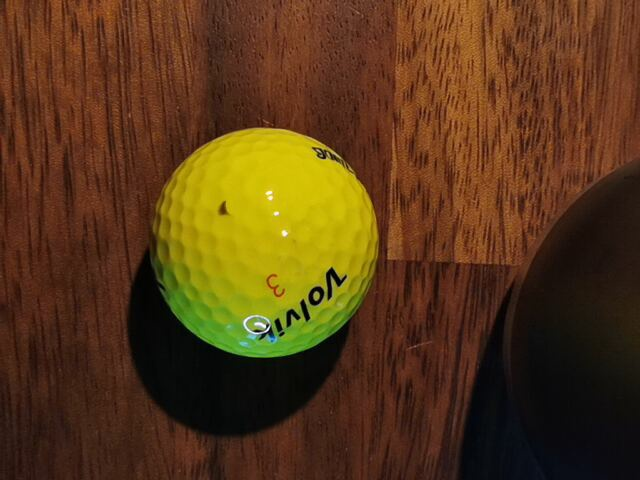Ball: (151, 126, 379, 359)
Volvik: (253, 267, 347, 343)
